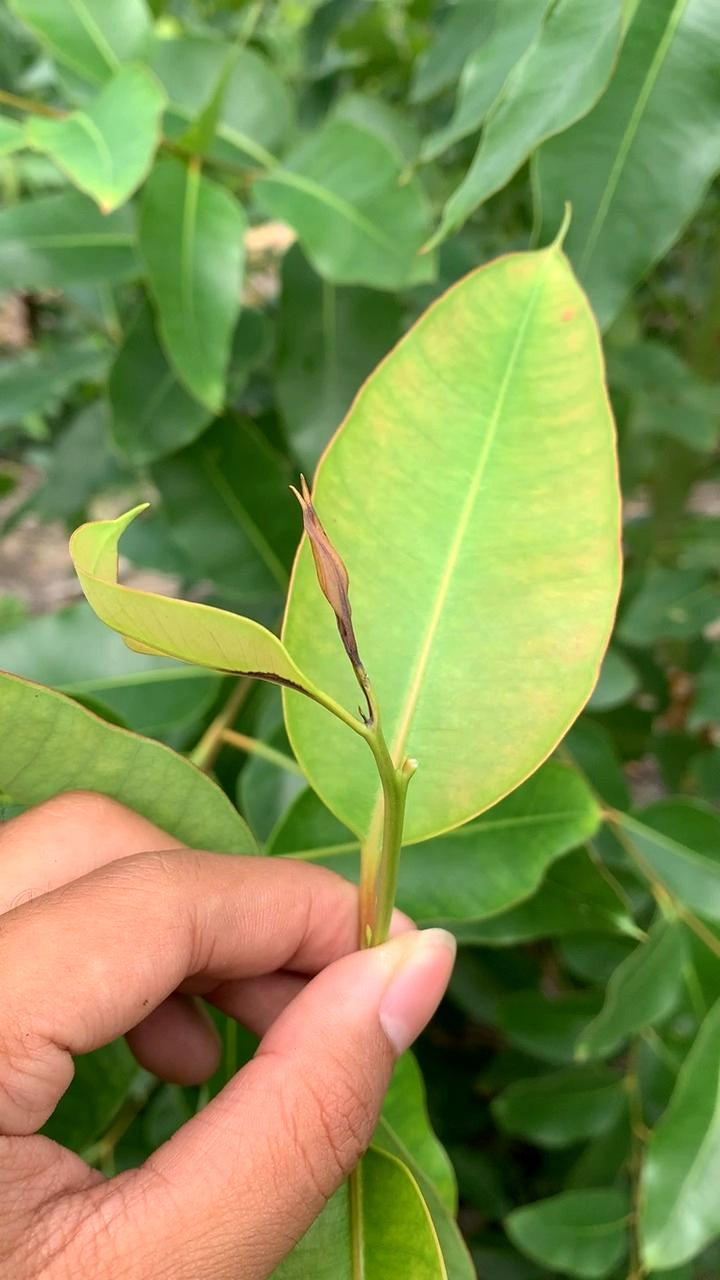Helopeltis-Withered Sprout: (276, 455, 397, 755)
